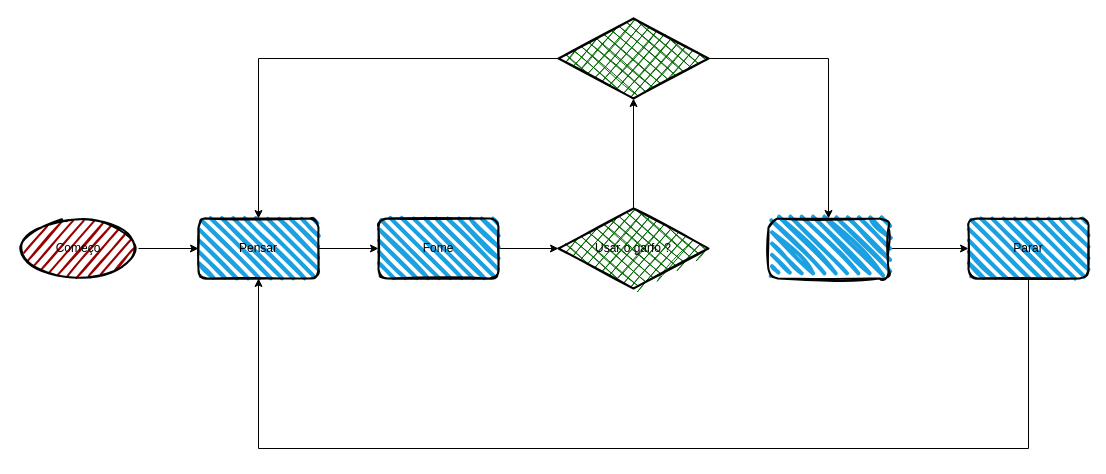
The diagram is 1106 pixels wide and 474 high, and some of its shapes have lost their labels. Here are the shapes that lost their labels. From the top down, the centre of each, then its label:
At (x=633, y=58): "Empregado".
At (x=828, y=248): "Comer".
